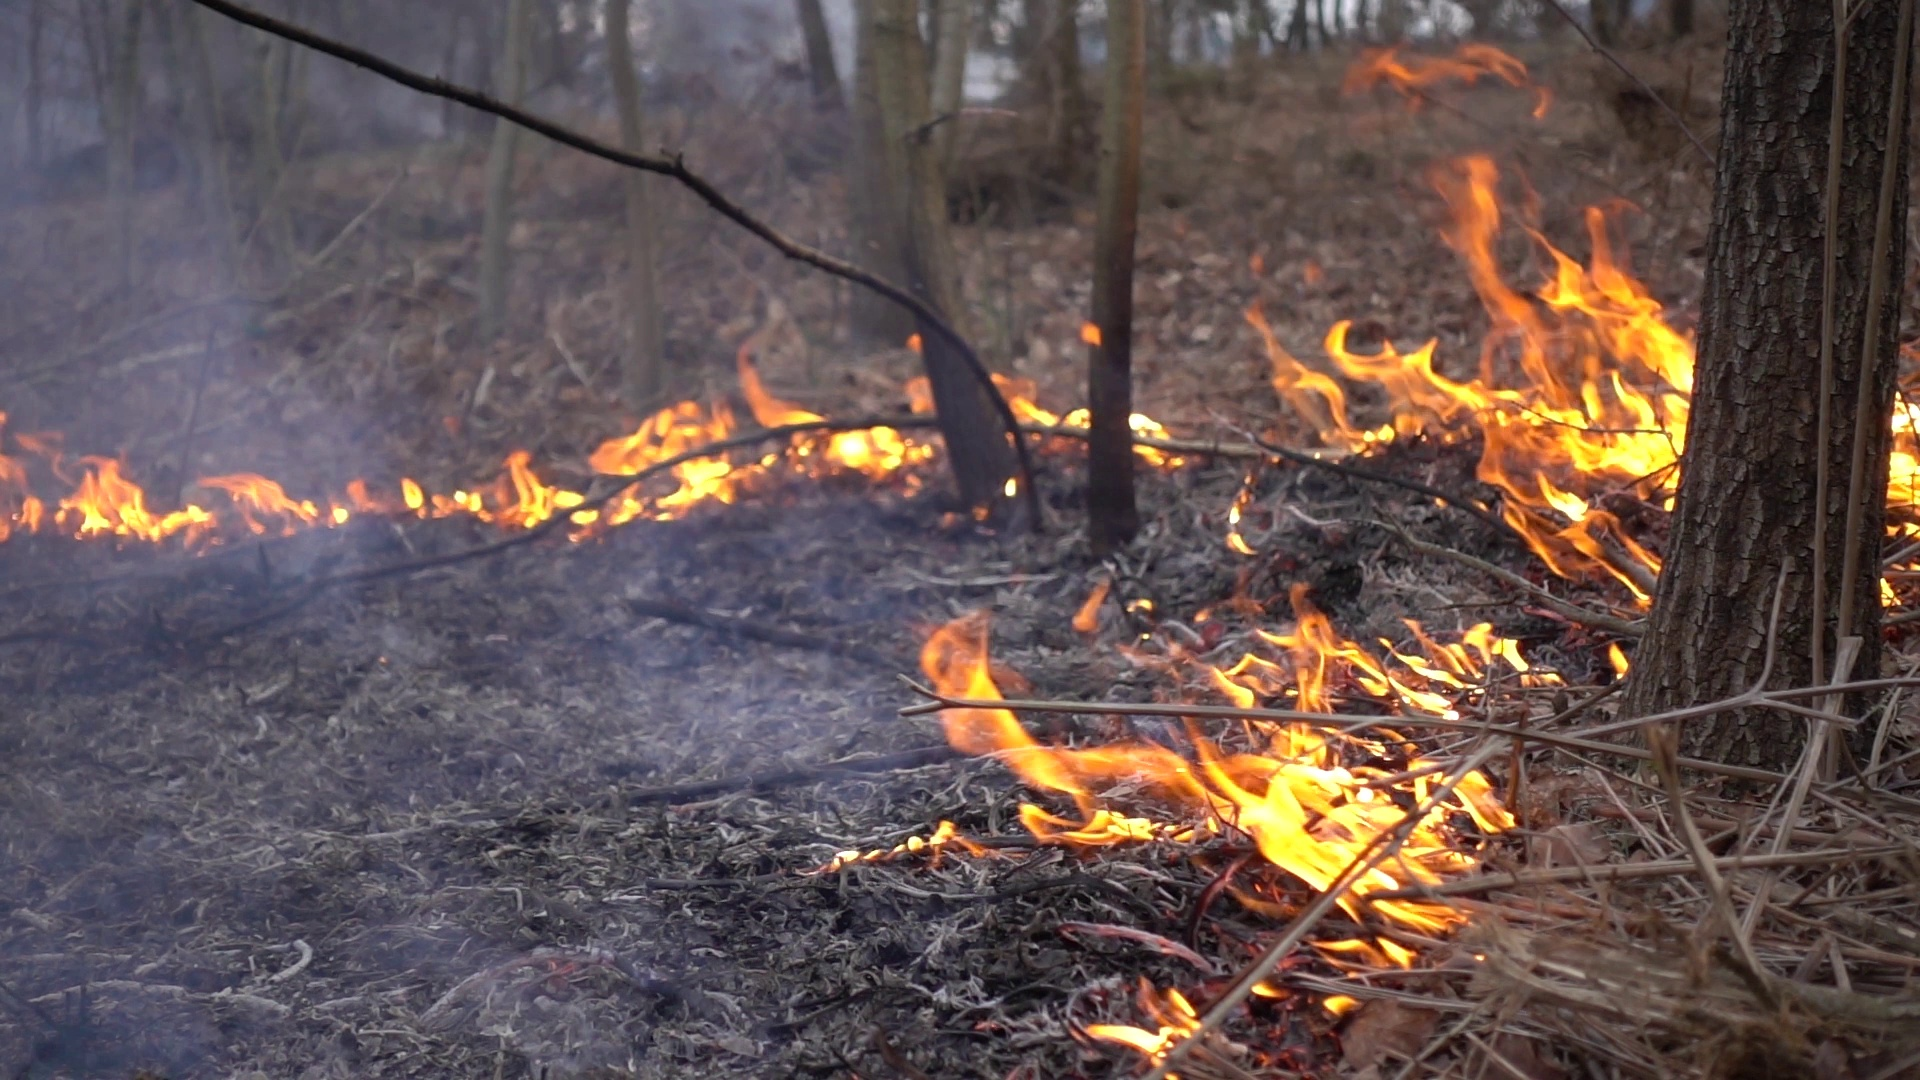fire: (927, 607, 1528, 955), (1265, 195, 1689, 599), (4, 458, 295, 539), (589, 392, 740, 524), (749, 385, 916, 489), (393, 452, 575, 531), (1091, 978, 1205, 1064), (996, 371, 1089, 443), (1886, 400, 1920, 506), (1131, 415, 1175, 469)
